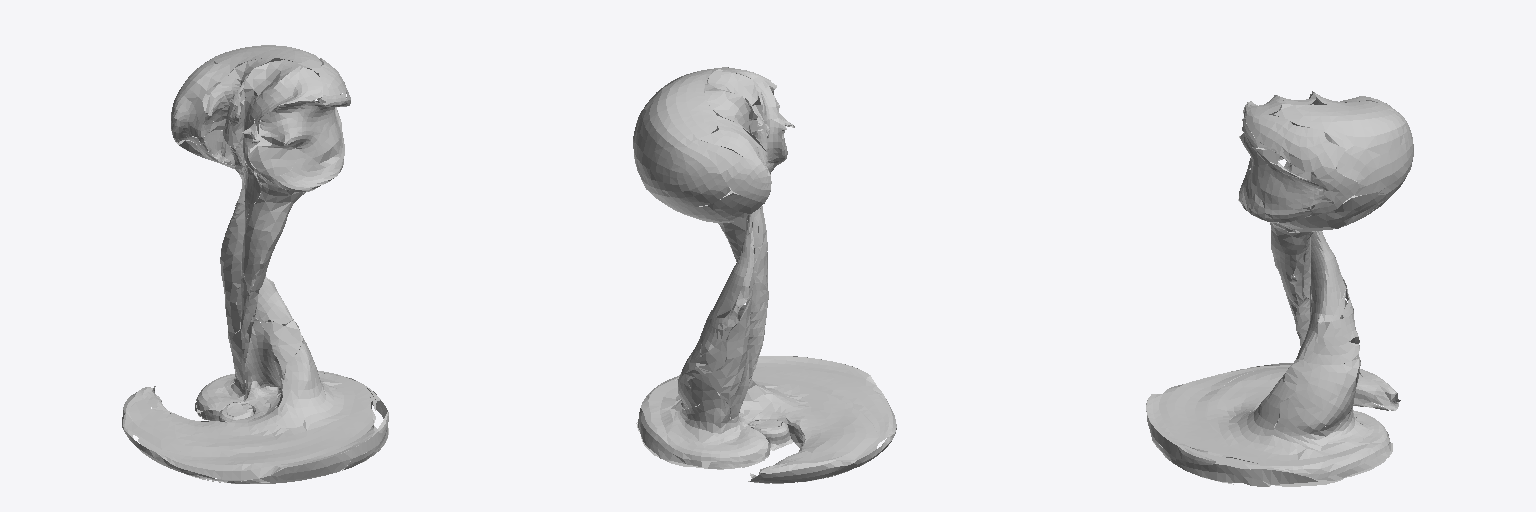
File: junk3.obj
3 renders of one model, left to right at view 1: azimuth 30°, elevation 25°; view 2: azimuth 150°, elevation 25°; view 3: azimuth 270°, elevation 25°, orthographic.
Parts seen in each view (by area): view 1: Retopo_mesh.001; view 2: Retopo_mesh.001; view 3: Retopo_mesh.001.
Part boxes in pixels (x1,y1,x2,y2): Retopo_mesh.001: (122, 45, 388, 483); Retopo_mesh.001: (633, 67, 896, 483); Retopo_mesh.001: (1146, 91, 1413, 486).
Bounding box in the file's own units: 0.129 × 0.1911 × 0.1318.